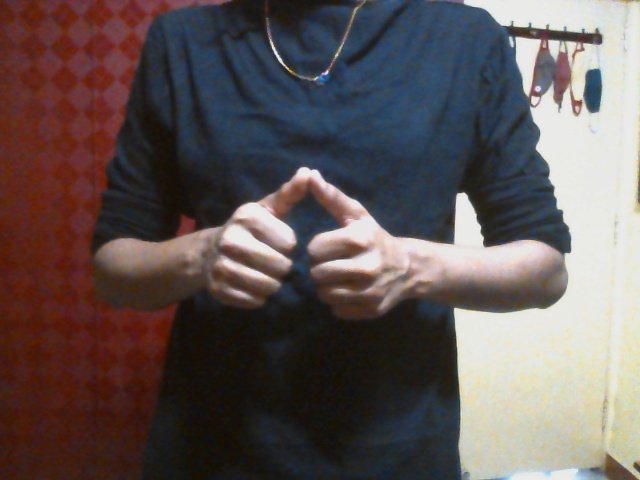A: (204, 165, 397, 321)
